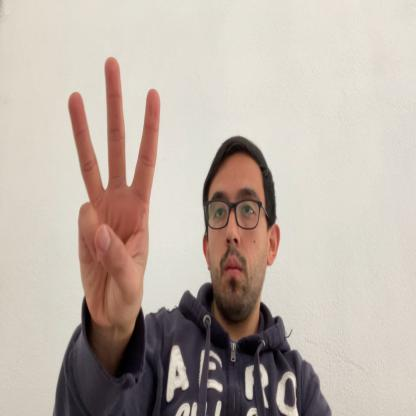W: (69, 55, 160, 344)
